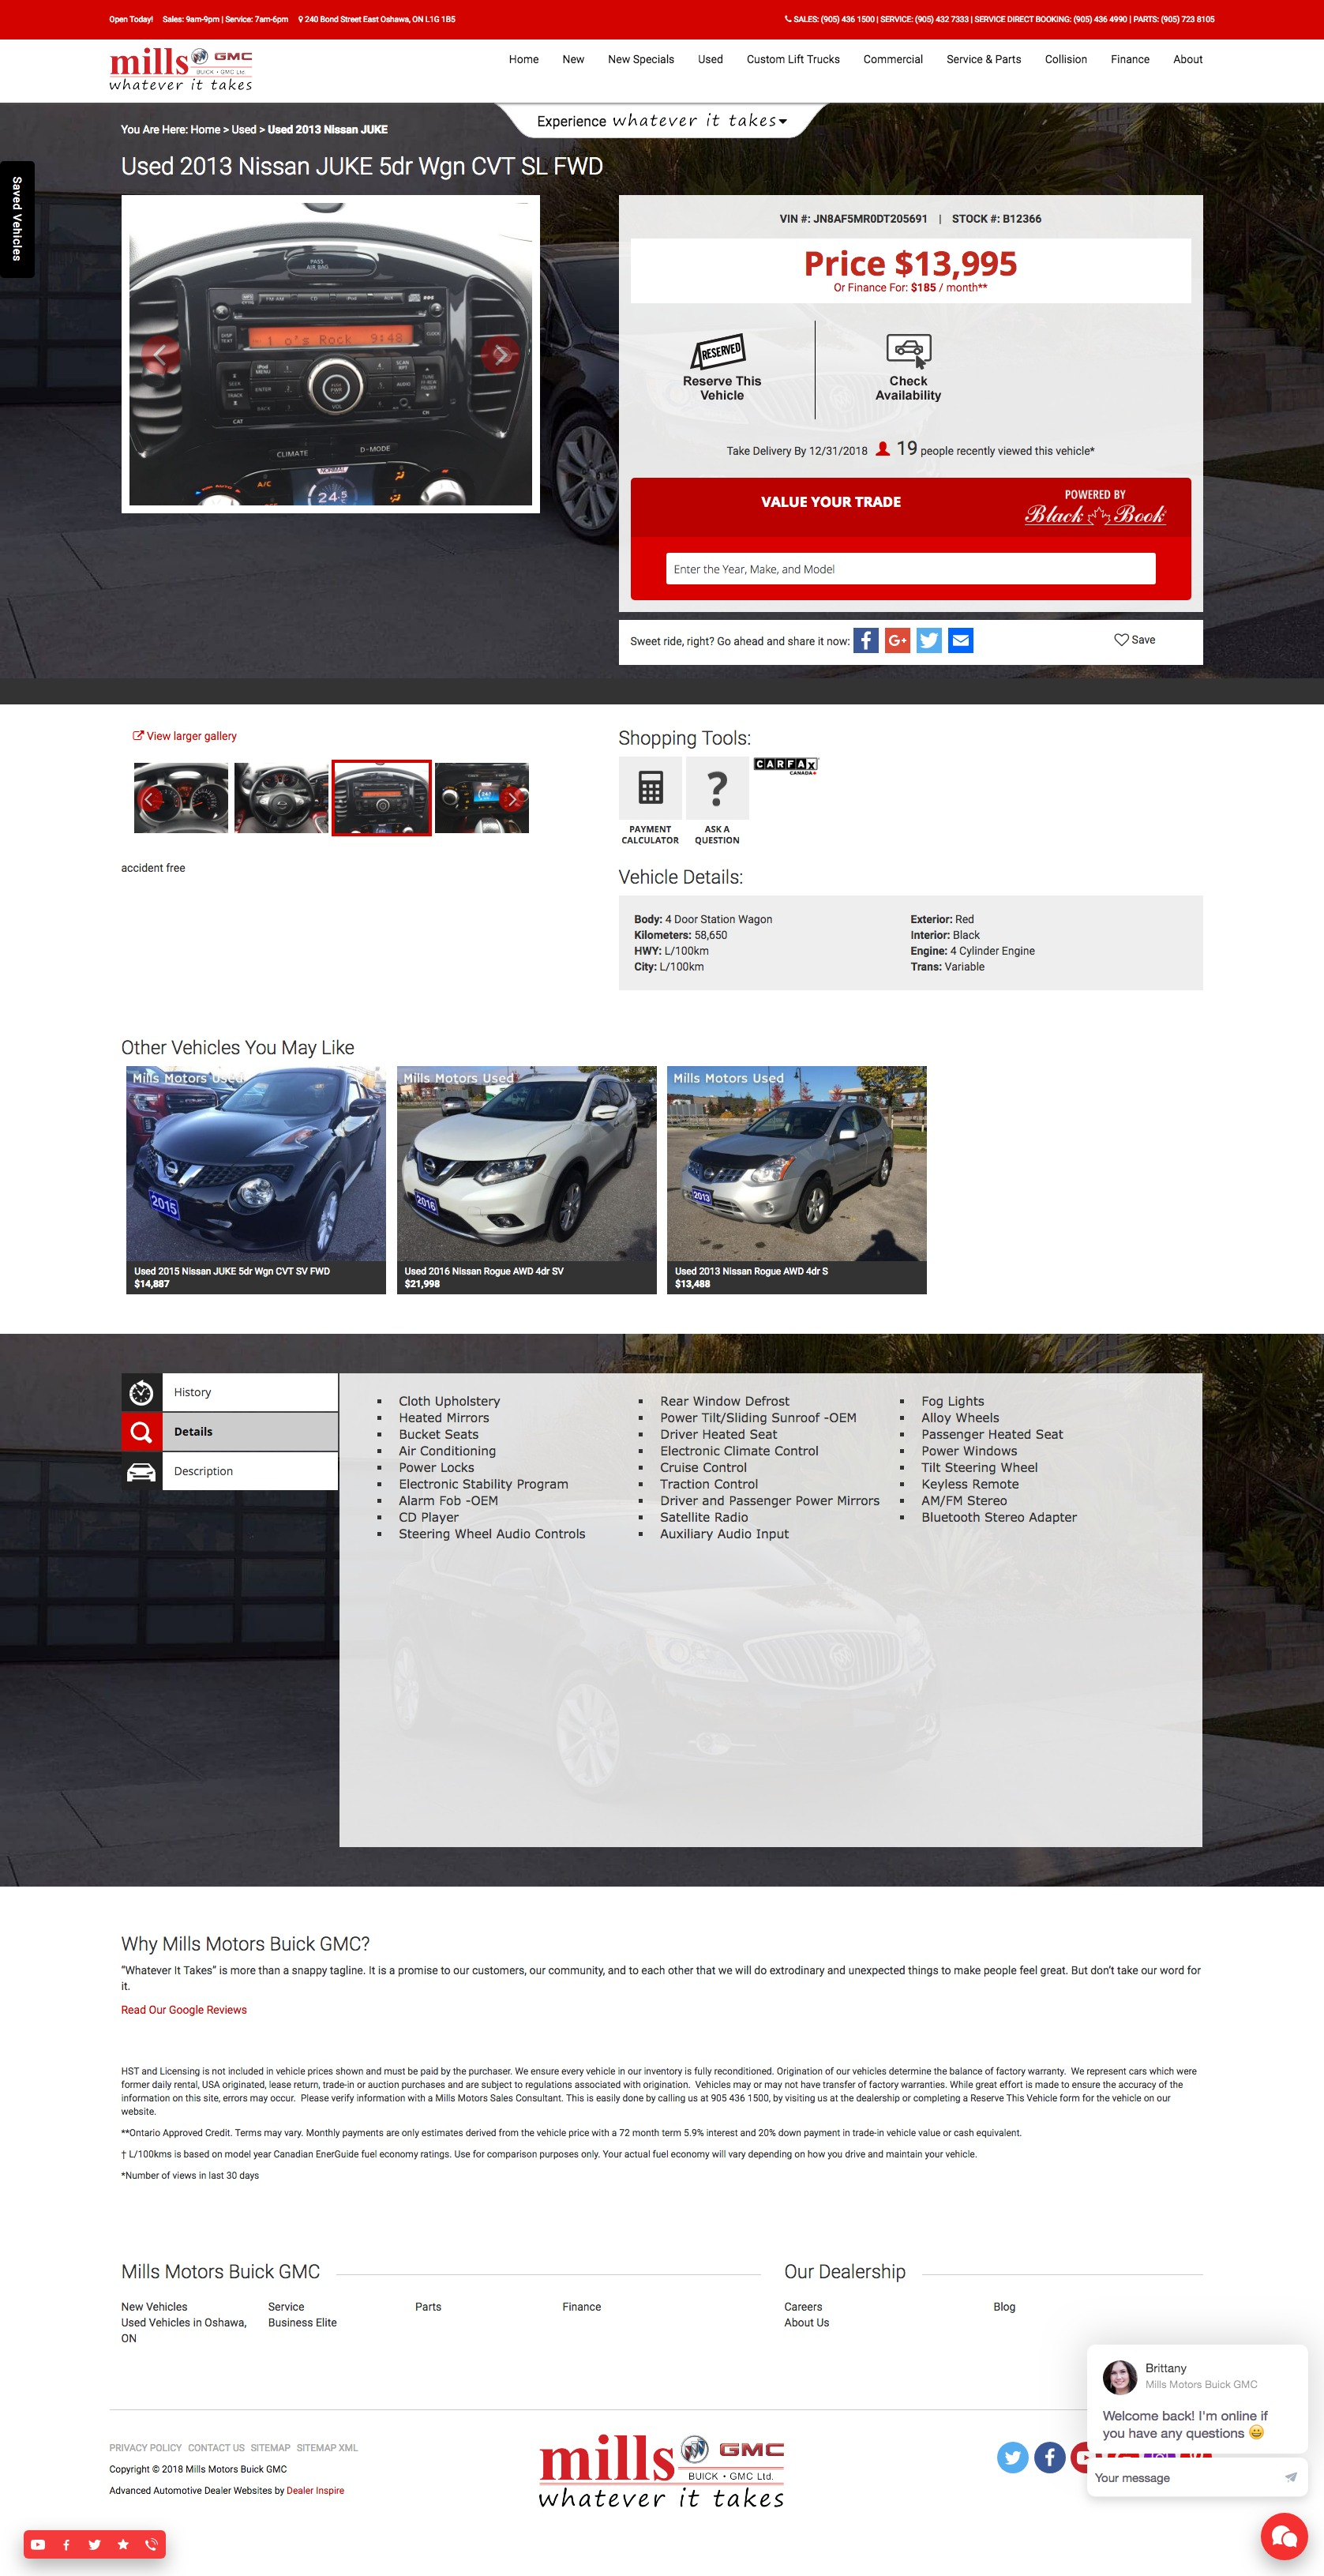car: (498, 787, 525, 814)
